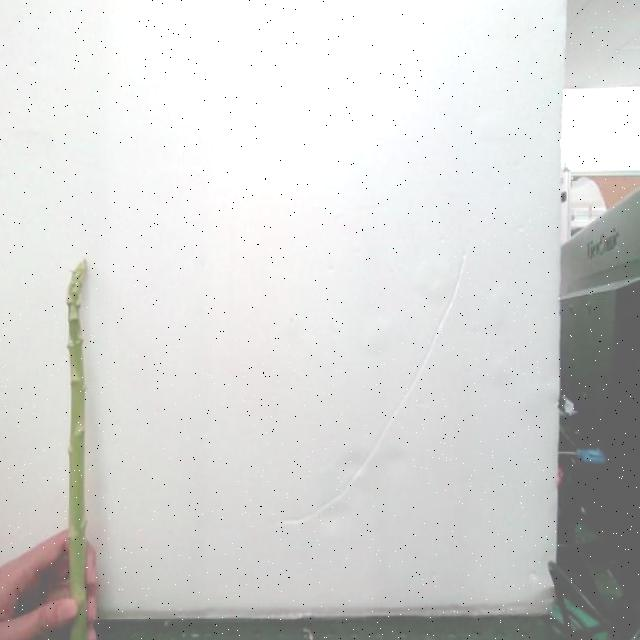aspargus: (65, 261, 90, 640)
